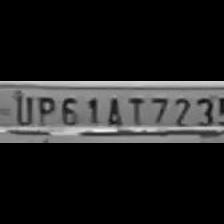1: (81, 94, 101, 126)
2: (168, 94, 192, 126)
3: (191, 93, 215, 126)
6: (55, 93, 81, 126)
7: (147, 94, 169, 126)
A: (100, 94, 124, 126)
P: (32, 93, 56, 126)
T: (124, 94, 146, 126)
U: (9, 92, 33, 126)
